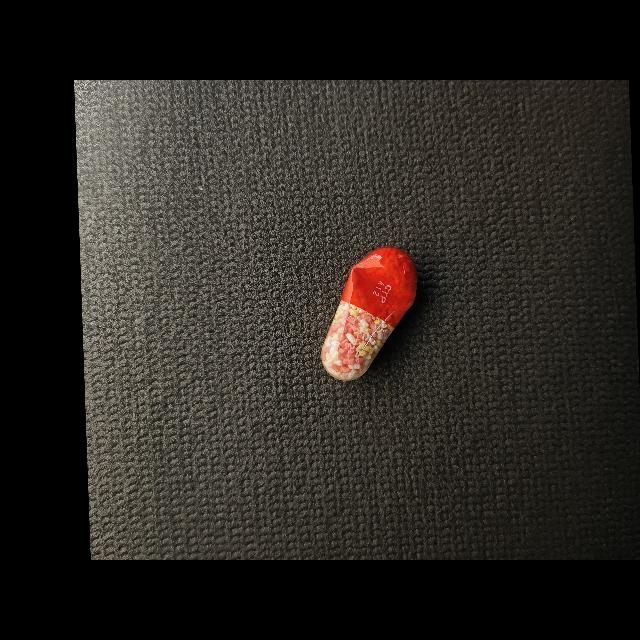Defective Capsule: (321, 247, 418, 381)
